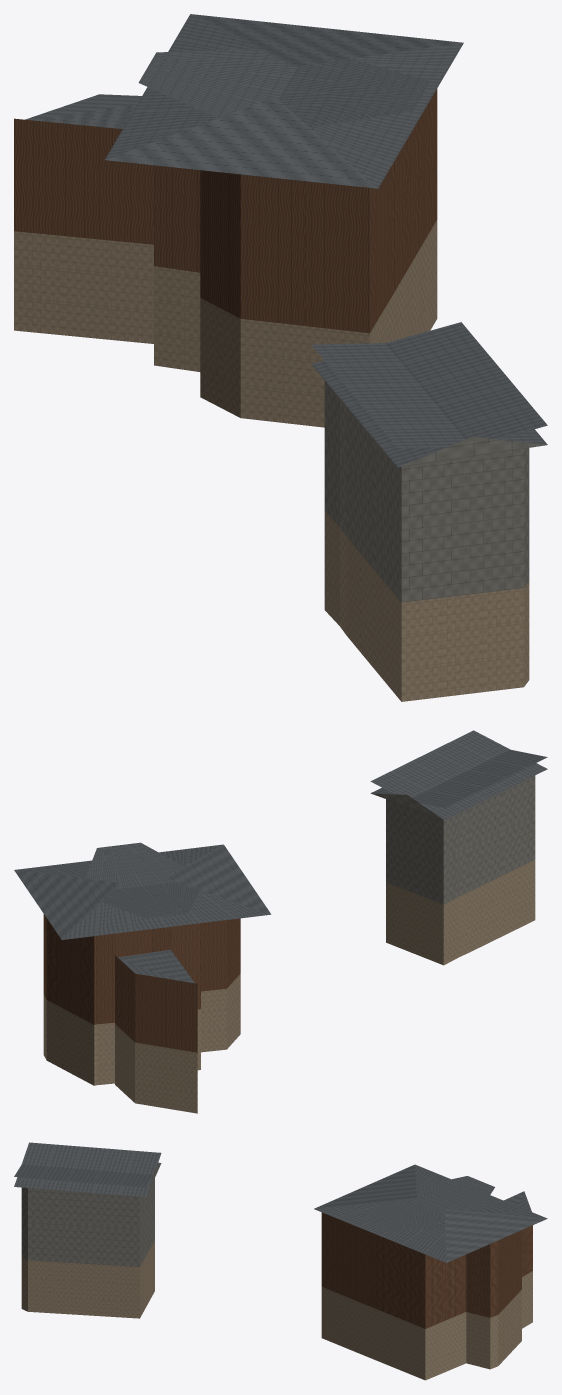
The model's file is bld_c-8_36_390.gltf.
3 renders of one model, top to bottom at view 1: azimuth 30°, elevation 25°; view 2: azimuth 150°, elevation 25°; view 3: azimuth 270°, elevation 25°, orthographic. The views are drawn at different scales.
Parts seen in each view (by area): view 1: bld_c-8_36_390; view 2: bld_c-8_36_390; view 3: bld_c-8_36_390.
Boxes of the visible parts, left/top/right/bottom form: bld_c-8_36_390: left=14, top=14, right=547, bottom=701; bld_c-8_36_390: left=14, top=730, right=547, bottom=1113; bld_c-8_36_390: left=14, top=1142, right=547, bottom=1380.
Size of the model in its own units: 25.2 by 14.3 by 47.93.
Materials: 6 (6 with a texture image).
